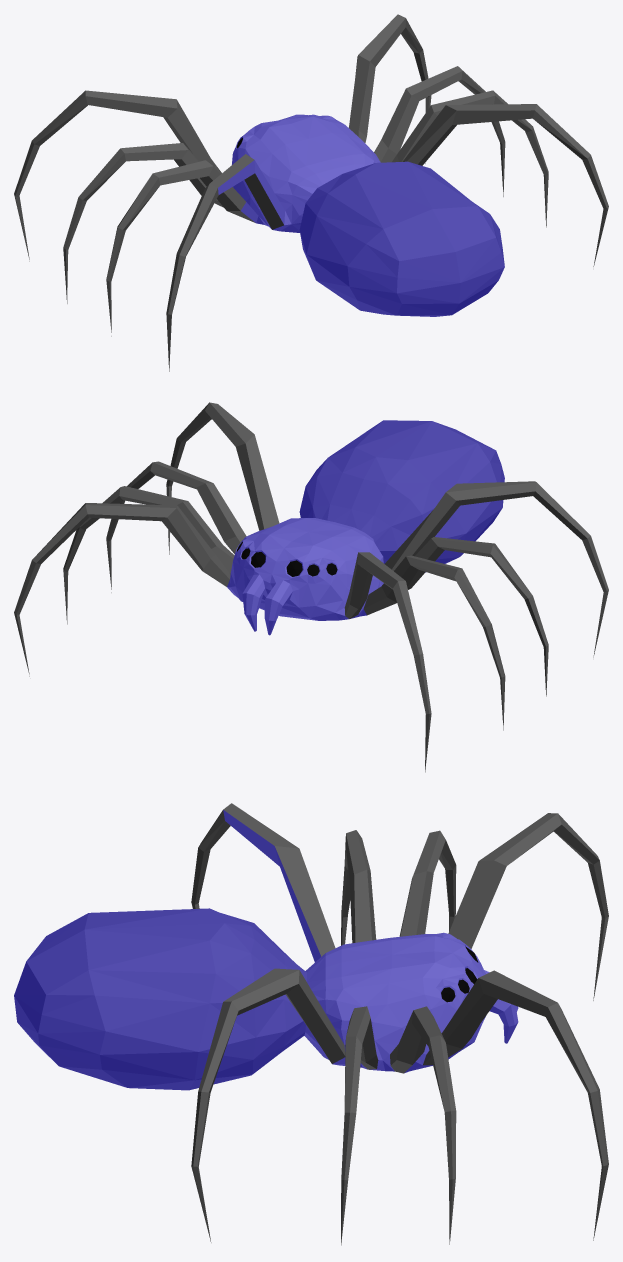
Rendered from pajunk.fbx.
The picture shows the model from 3 angles, top to bottom: view 1: azimuth 30°, elevation 25°; view 2: azimuth 150°, elevation 25°; view 3: azimuth 270°, elevation 25°; orthographic projection. The views are drawn at different scales.
Parts seen in each view (by area): view 1: Circle.002; view 2: Circle.002; view 3: Circle.002.
Part boxes in pixels (bbox=[...]): Circle.002: bbox=[14, 14, 608, 371]; Circle.002: bbox=[14, 402, 608, 772]; Circle.002: bbox=[14, 803, 608, 1245].
Size of the model in its own units: 142 by 54.53 by 133.
